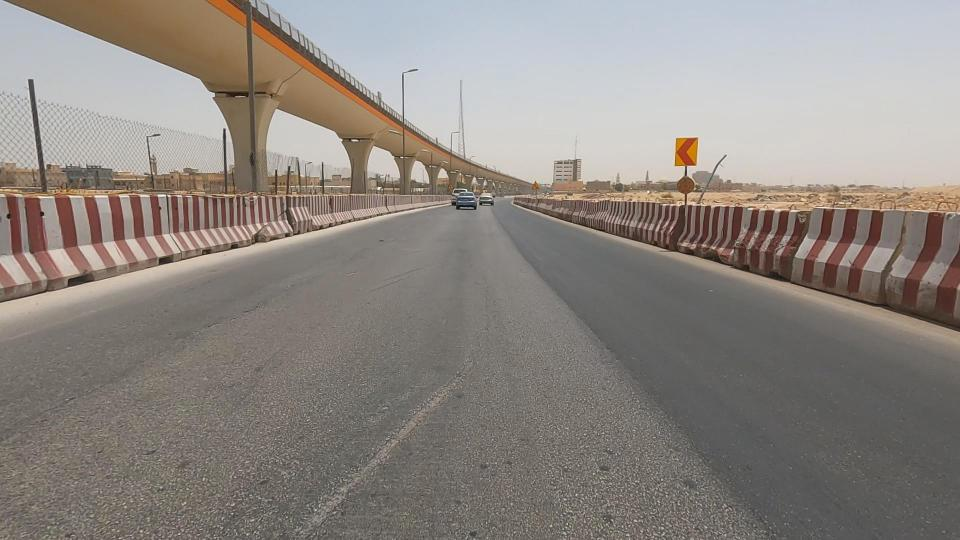CONSTRUCTION_ROAD: (725, 138, 960, 346), (0, 111, 229, 314), (103, 126, 360, 285), (624, 157, 848, 299), (556, 168, 679, 256), (494, 170, 592, 249), (296, 164, 390, 227)
